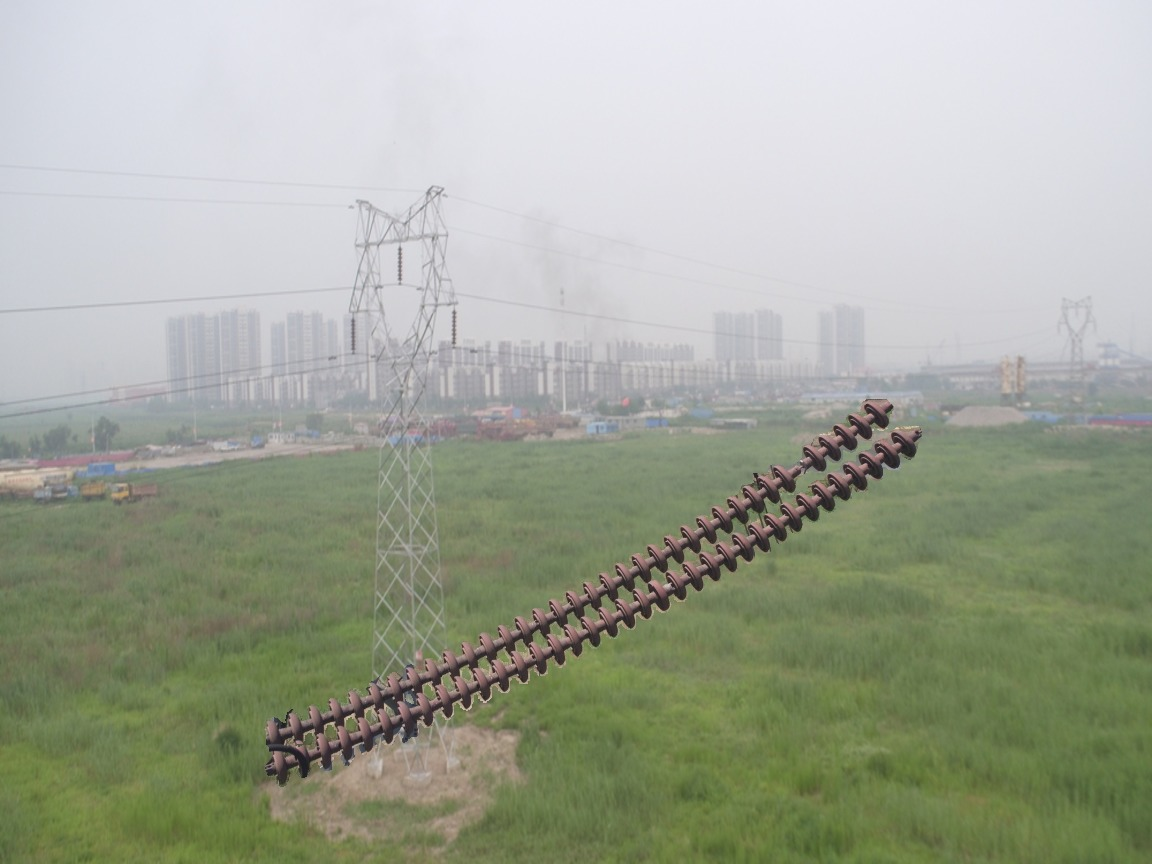defect: (769, 441, 828, 494)
